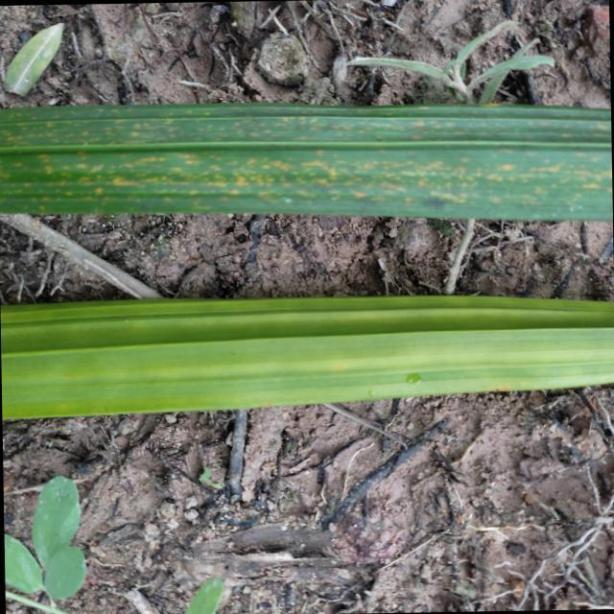nitrogen: (0, 289, 614, 427), (5, 101, 614, 224)
